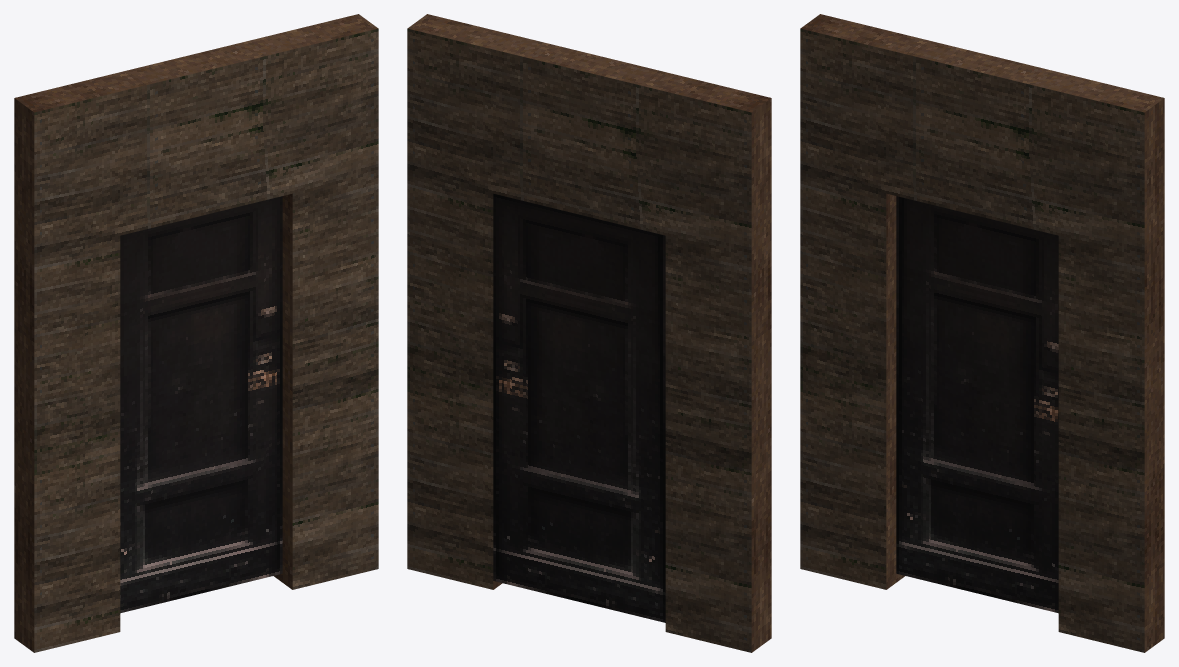
The model's file is door_single_04.glb.
3 renders of one model, left to right at view 1: azimuth 30°, elevation 25°; view 2: azimuth 150°, elevation 25°; view 3: azimuth 330°, elevation 25°, orthographic.
Parts seen in each view (by area): view 1: door_single_042, door_04_002; view 2: door_single_042, door_04_002; view 3: door_single_042, door_04_002.
Part boxes in pixels (<box>): door_single_042: <box>14,14,378,652</box>; door_04_002: <box>120,196,282,613</box>; door_single_042: <box>407,14,771,652</box>; door_04_002: <box>493,193,665,622</box>; door_single_042: <box>800,14,1164,652</box>; door_04_002: <box>896,196,1058,613</box>.
Bounding box in the file's own units: 2 × 3 × 0.2.
Materials: 2 (2 with a texture image).
